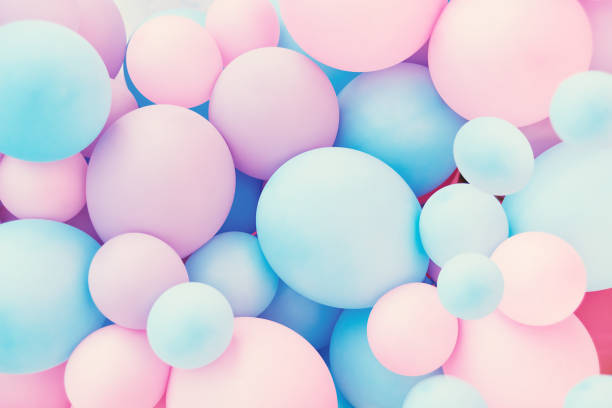Balloon: (256, 148, 428, 305), (86, 105, 235, 256), (428, 1, 595, 122), (1, 221, 107, 381), (212, 49, 341, 169), (1, 25, 110, 163), (278, 1, 443, 71), (125, 15, 225, 110), (367, 282, 458, 374), (69, 325, 167, 408), (146, 282, 232, 368), (420, 184, 508, 262), (454, 115, 536, 192), (548, 72, 612, 151), (438, 253, 504, 322)
